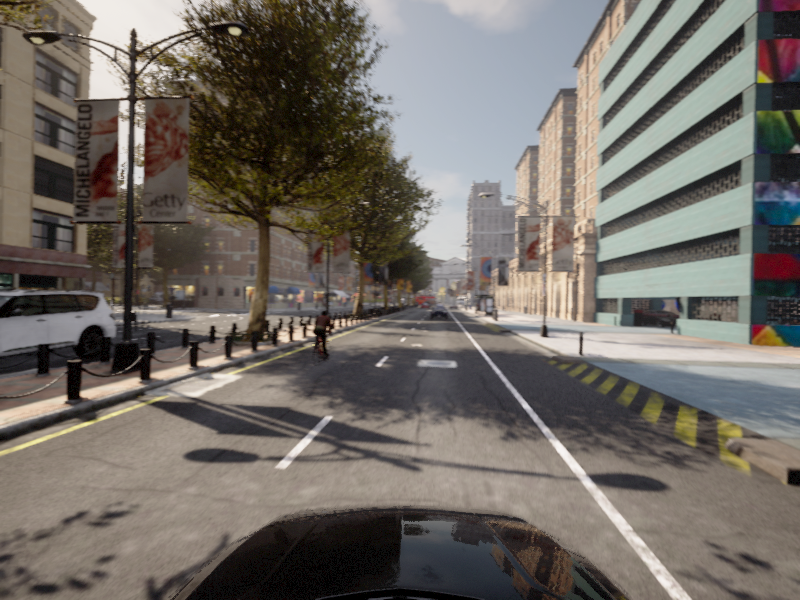vehicle: (1, 286, 126, 389), (303, 310, 339, 368), (1, 306, 30, 373), (430, 306, 448, 319)
